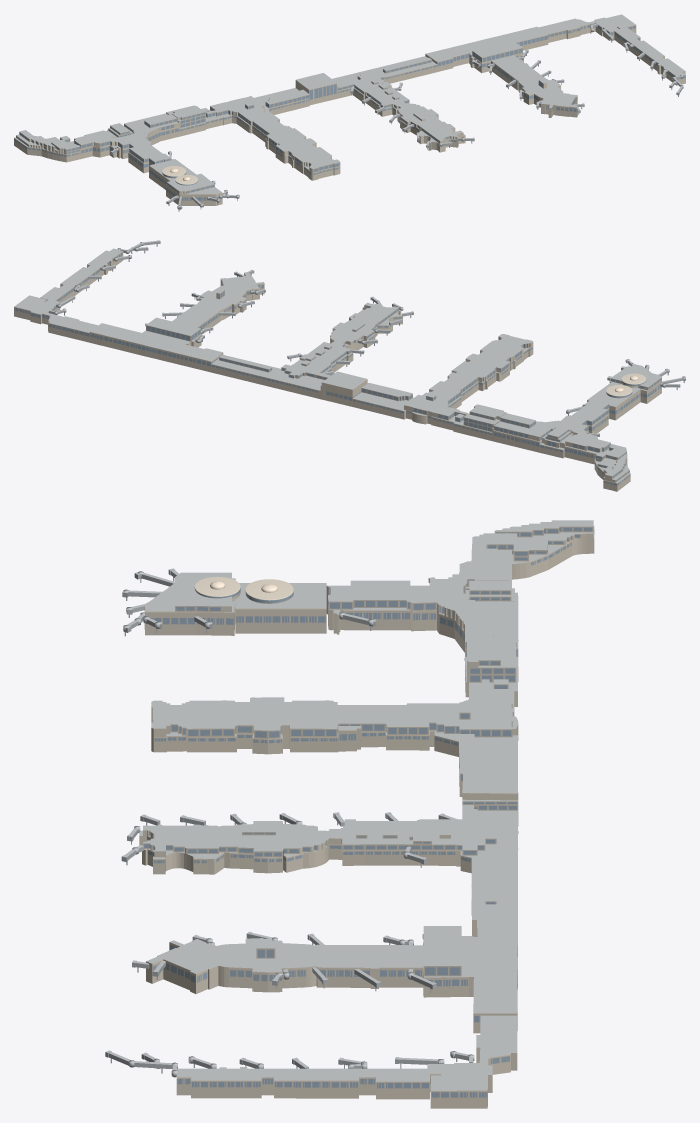
The model's file is la-lax-terminals-4-8.detail.glb.
3 views of the same model, one above another, from view 1: azimuth 30°, elevation 25°; view 2: azimuth 150°, elevation 25°; view 3: azimuth 270°, elevation 25° (orthographic). The views are drawn at different scales.
Parts seen in each view (by area): view 1: LAX Terminals 4-8; view 2: LAX Terminals 4-8; view 3: LAX Terminals 4-8.
Boxes of the visible parts, bbox=[...] form: LAX Terminals 4-8: bbox=[14, 14, 685, 211]; LAX Terminals 4-8: bbox=[14, 240, 685, 491]; LAX Terminals 4-8: bbox=[105, 520, 594, 1108].
Bounding box in the file's own units: 1059 × 31.5 × 386.
